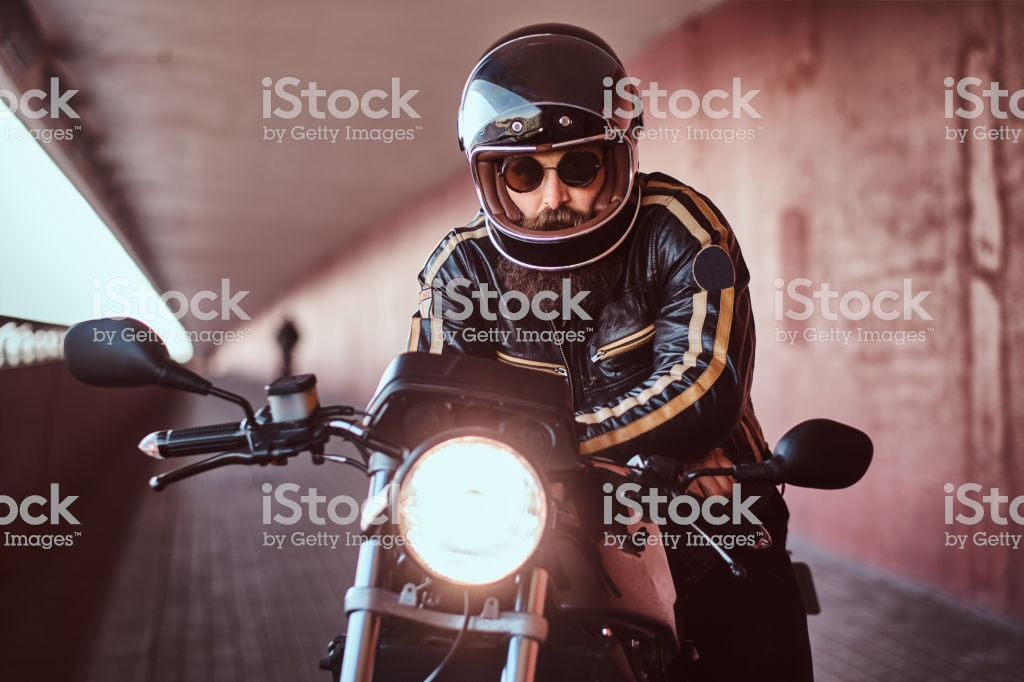helmet: (452, 17, 650, 274)
